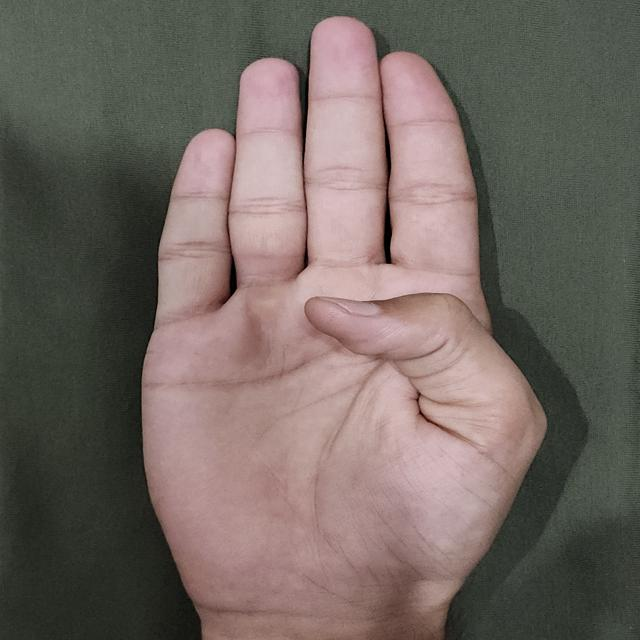ب: (119, 3, 580, 640)
